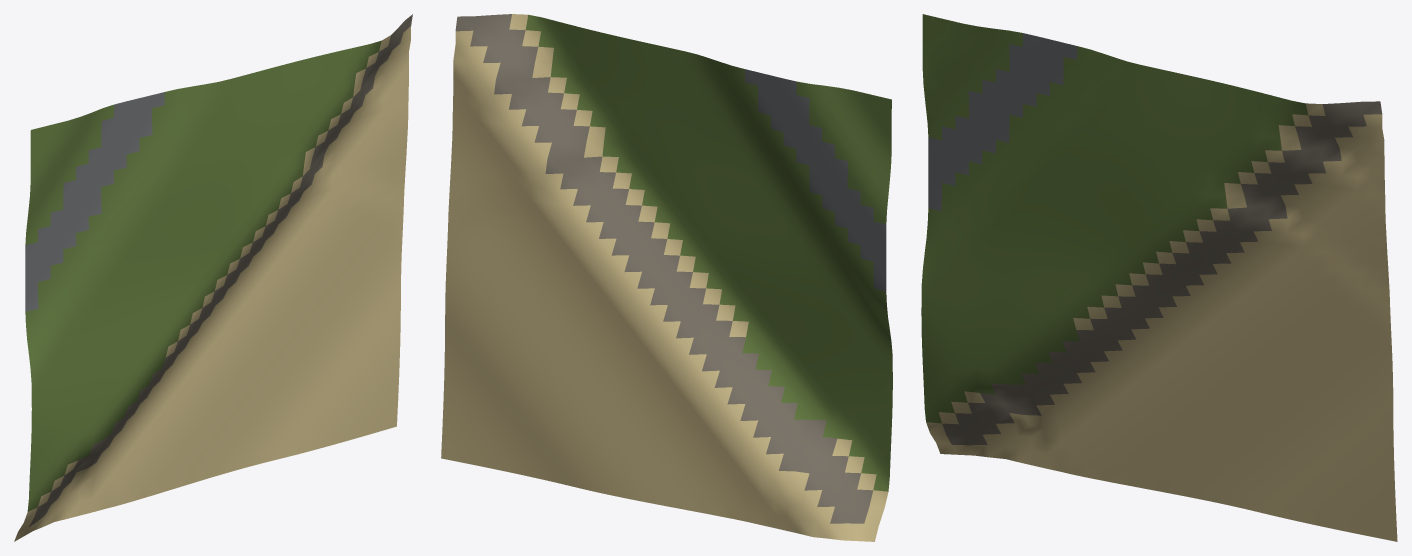
The model's file is island_terrain_25_03.obj.
3 views of the same model, side by side, from view 1: azimuth 30°, elevation 25°; view 2: azimuth 150°, elevation 25°; view 3: azimuth 330°, elevation 25° (orthographic). The views are drawn at different scales.
Visible parts, largest first — view 1: island_terrain_25_03; view 2: island_terrain_25_03; view 3: island_terrain_25_03.
Part boxes in pixels (<box>): island_terrain_25_03: <box>14,14,412,541</box>; island_terrain_25_03: <box>441,14,892,541</box>; island_terrain_25_03: <box>921,14,1397,541</box>.
Bounding box in the file's own units: 256 × 256 × 44.13.
